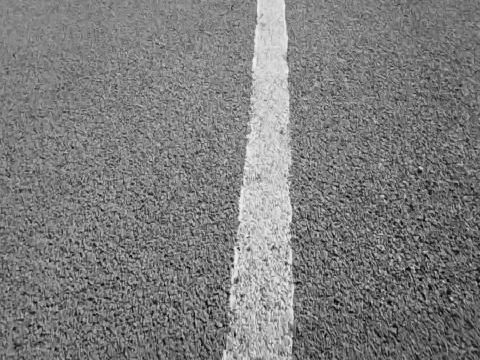Lines: (221, 0, 293, 360)
